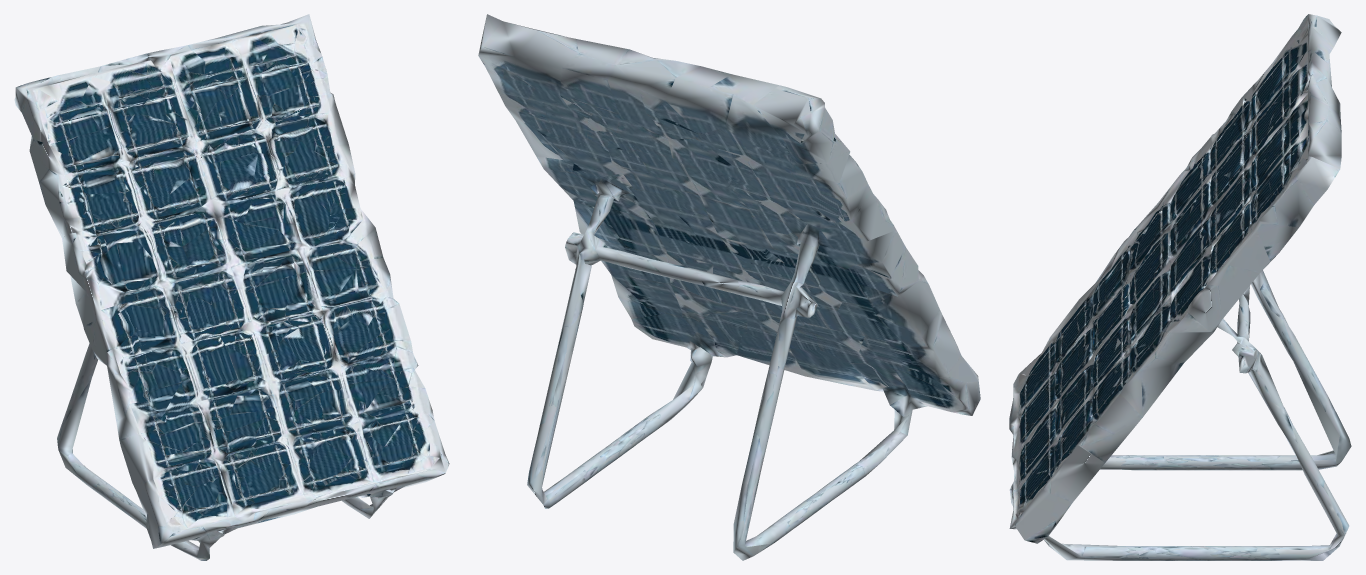
Rendered from solar-panel.glb.
3 renders of one model, left to right at view 1: azimuth 30°, elevation 25°; view 2: azimuth 150°, elevation 25°; view 3: azimuth 270°, elevation 25°, orthographic. The views are drawn at different scales.
Size of the model in its own units: 1.4 by 1.9 by 1.36.
Materials: 1 (1 with a texture image).
